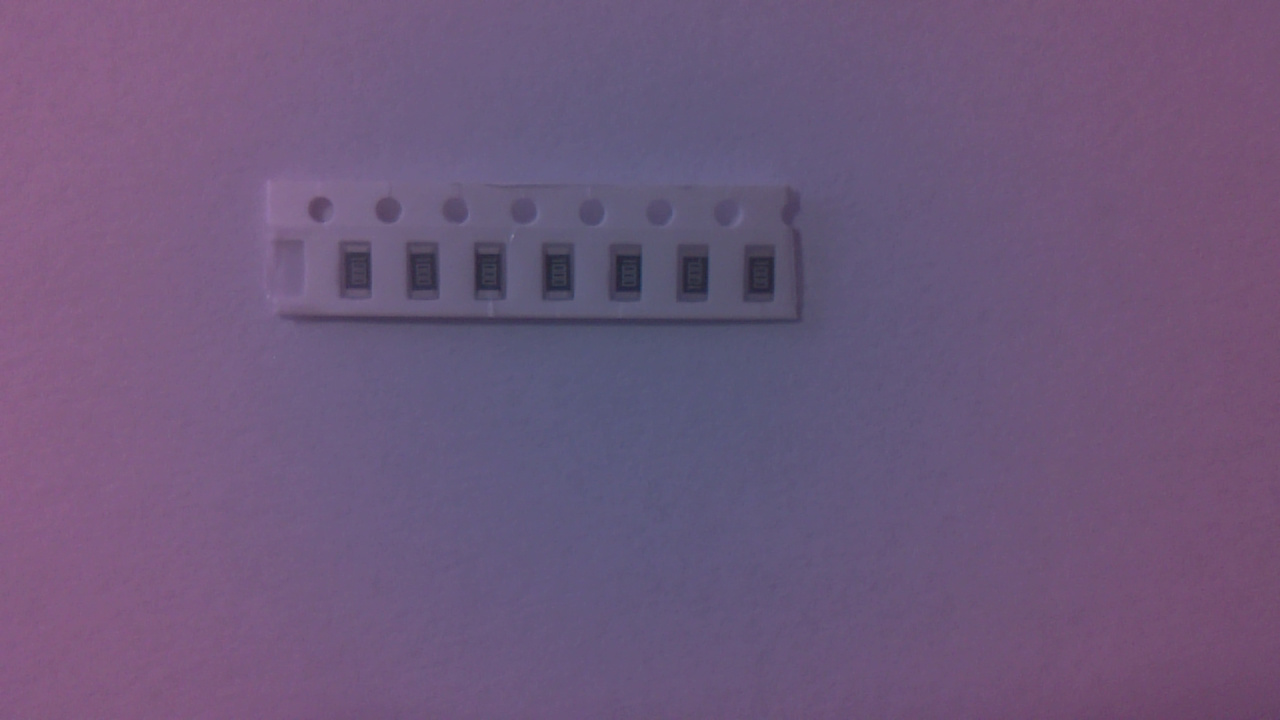Resistor: (476, 243, 514, 305), (547, 243, 584, 306), (413, 246, 449, 307), (616, 246, 650, 308), (682, 248, 718, 304), (347, 243, 379, 304), (749, 249, 783, 306)
